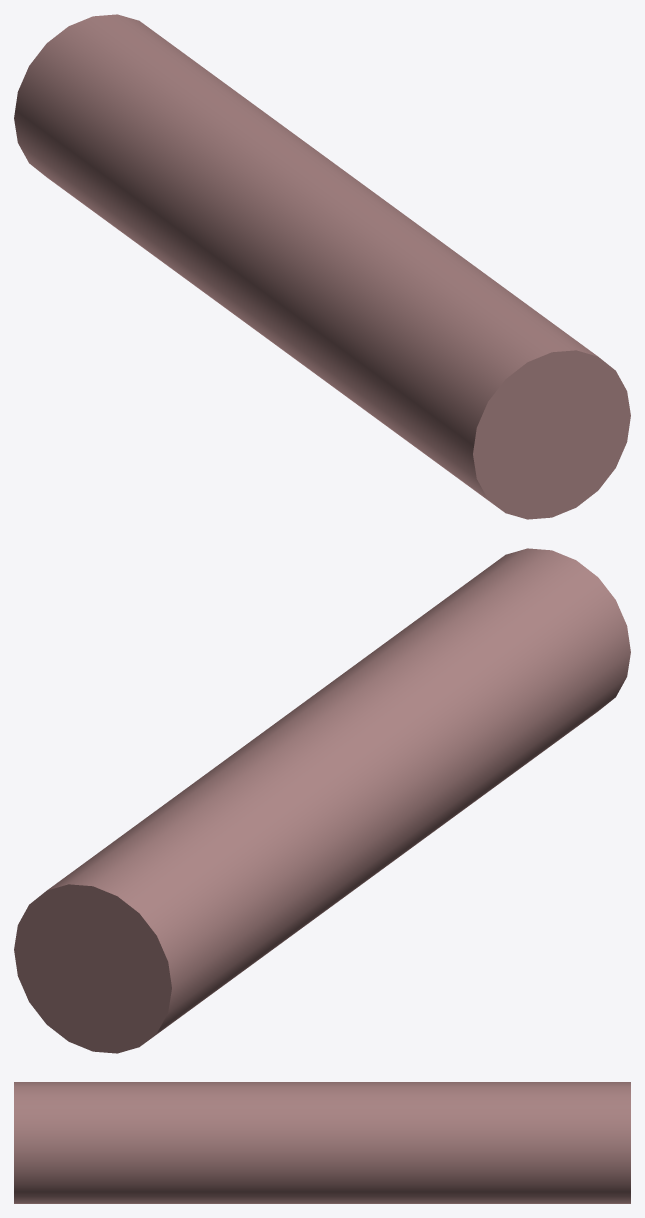
Rendered from column.fbx.
The picture shows the model from 3 angles, top to bottom: view 1: azimuth 30°, elevation 25°; view 2: azimuth 150°, elevation 25°; view 3: azimuth 270°, elevation 25°; orthographic projection. The views are drawn at different scales.
Visible parts, largest first — view 1: pCylinder2; view 2: pCylinder2; view 3: pCylinder2.
Part boxes in pixels (box(x1,y1,x2,y2)): pCylinder2: box(14, 14, 630, 519); pCylinder2: box(14, 548, 630, 1053); pCylinder2: box(14, 1082, 630, 1203).
Size of the model in its own units: 1.45 by 1.45 by 7.31.
